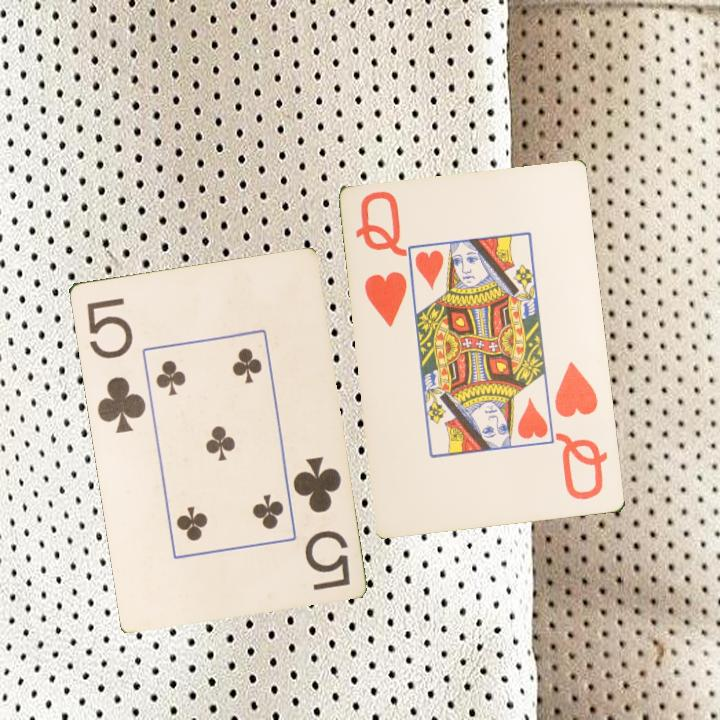5c: (82, 294, 149, 436), (288, 452, 353, 593)
Qh: (551, 359, 612, 503), (352, 188, 411, 331)
